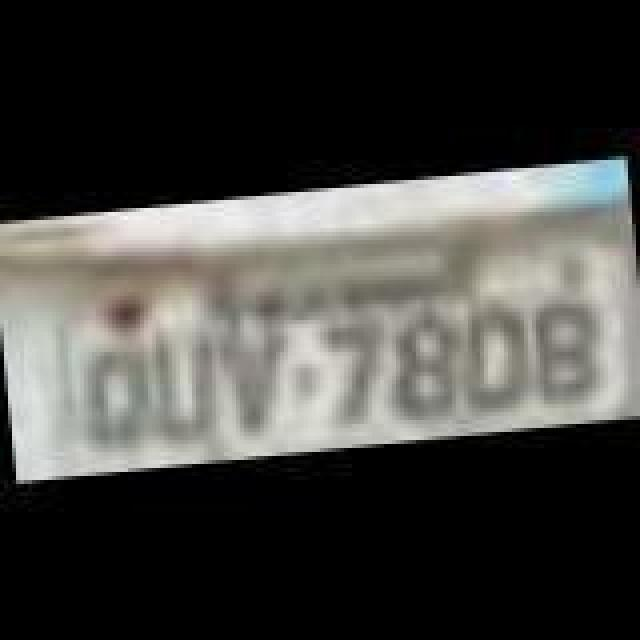7: (314, 310, 390, 426)
8: (528, 294, 608, 410), (386, 312, 462, 424)
O: (456, 298, 536, 414)
Q: (74, 332, 150, 452)
U: (146, 326, 222, 442)
V: (220, 316, 300, 436)
